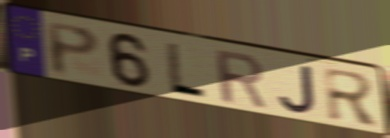6: (106, 31, 154, 90)
J: (276, 63, 318, 116)
L: (164, 39, 209, 101)
P: (43, 20, 103, 79)
R: (321, 65, 383, 129), (212, 47, 270, 112)
